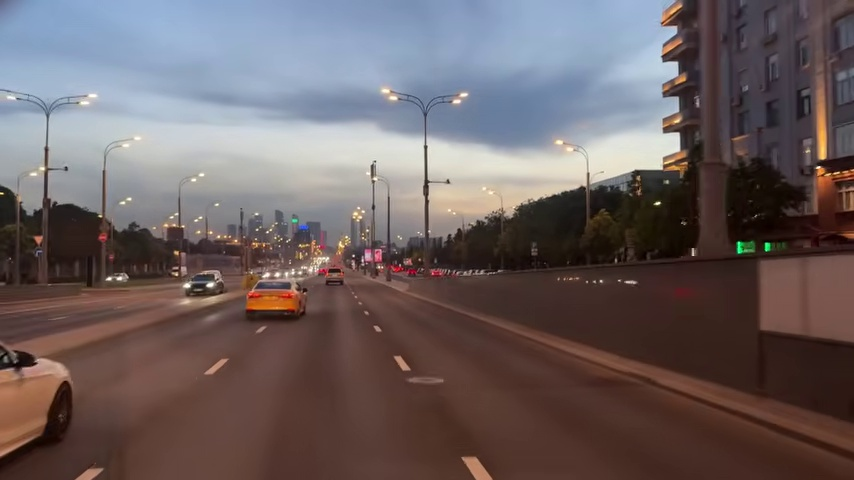acesa: (78, 92, 97, 108), (381, 86, 397, 102), (123, 136, 142, 149), (450, 92, 467, 106), (191, 171, 204, 185)
